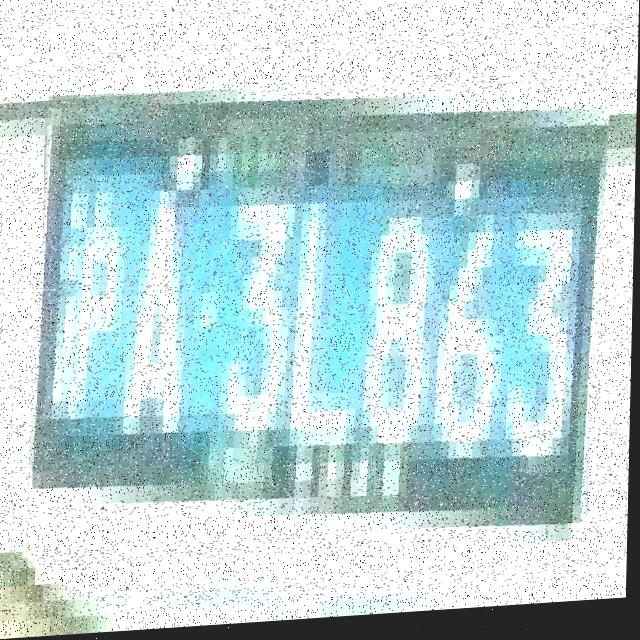LicensePlate: (29, 72, 608, 579)
